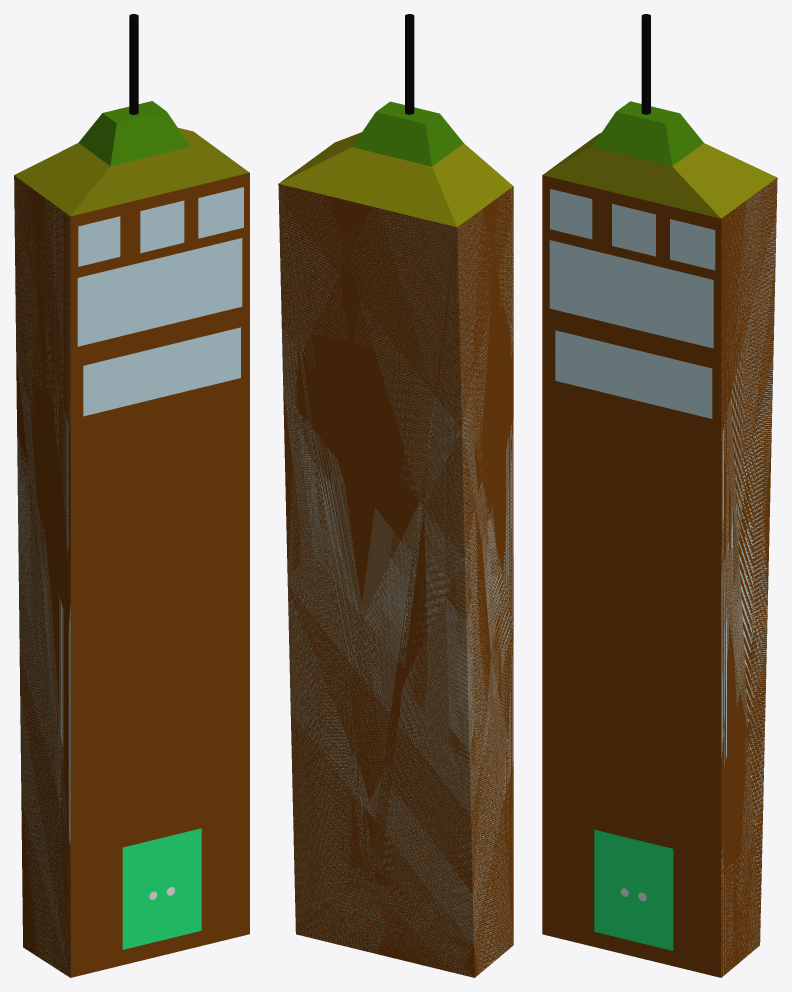
Rendered from Building8.obj.
3 renders of one model, left to right at view 1: azimuth 30°, elevation 25°; view 2: azimuth 150°, elevation 25°; view 3: azimuth 330°, elevation 25°, orthographic.
Parts seen in each view (by area): view 1: SketchUp.001_ID11, SketchUp.002_ID19, SketchUp.012_ID98, SketchUp.004_ID38, SketchUp.014_ID114, SketchUp.013_ID106, SketchUp.006_ID52, SketchUp.010_ID82, SketchUp.011_ID90, SketchUp.009_ID74, SketchUp.008_ID66; view 2: SketchUp.002_ID19, SketchUp.004_ID38, SketchUp.006_ID52, SketchUp.008_ID66; view 3: SketchUp.001_ID11, SketchUp.002_ID19, SketchUp.012_ID98, SketchUp.004_ID38, SketchUp.014_ID114, SketchUp.013_ID106, SketchUp.006_ID52, SketchUp.011_ID90, SketchUp.010_ID82, SketchUp.009_ID74, SketchUp.008_ID66.
Boxes of the visible parts, <box> form: SketchUp.001_ID11: <box>70,172,249,977</box>; SketchUp.002_ID19: <box>14,175,70,977</box>; SketchUp.012_ID98: <box>77,238,242,346</box>; SketchUp.004_ID38: <box>14,128,249,216</box>; SketchUp.014_ID114: <box>122,828,201,949</box>; SketchUp.013_ID106: <box>83,327,240,416</box>; SketchUp.006_ID52: <box>78,101,190,165</box>; SketchUp.010_ID82: <box>140,200,184,253</box>; SketchUp.011_ID90: <box>198,187,243,238</box>; SketchUp.009_ID74: <box>78,216,120,266</box>; SketchUp.008_ID66: <box>129,14,138,114</box>; SketchUp.002_ID19: <box>278,183,513,977</box>; SketchUp.004_ID38: <box>279,132,513,227</box>; SketchUp.006_ID52: <box>352,101,463,166</box>; SketchUp.008_ID66: <box>405,14,414,114</box>; SketchUp.001_ID11: <box>542,175,721,977</box>; SketchUp.002_ID19: <box>721,178,777,977</box>; SketchUp.012_ID98: <box>549,240,713,348</box>; SketchUp.004_ID38: <box>543,133,777,218</box>; SketchUp.014_ID114: <box>594,829,673,950</box>; SketchUp.013_ID106: <box>555,330,712,418</box>; SketchUp.006_ID52: <box>592,101,703,166</box>; SketchUp.011_ID90: <box>670,219,715,270</box>; SketchUp.010_ID82: <box>612,204,655,256</box>; SketchUp.009_ID74: <box>550,189,592,239</box>; SketchUp.008_ID66: <box>641,14,650,114</box>.
Size of the model in its own units: 101 by 487 by 53.72.
